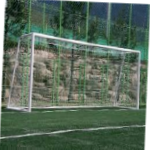goals: (7, 29, 141, 115)
